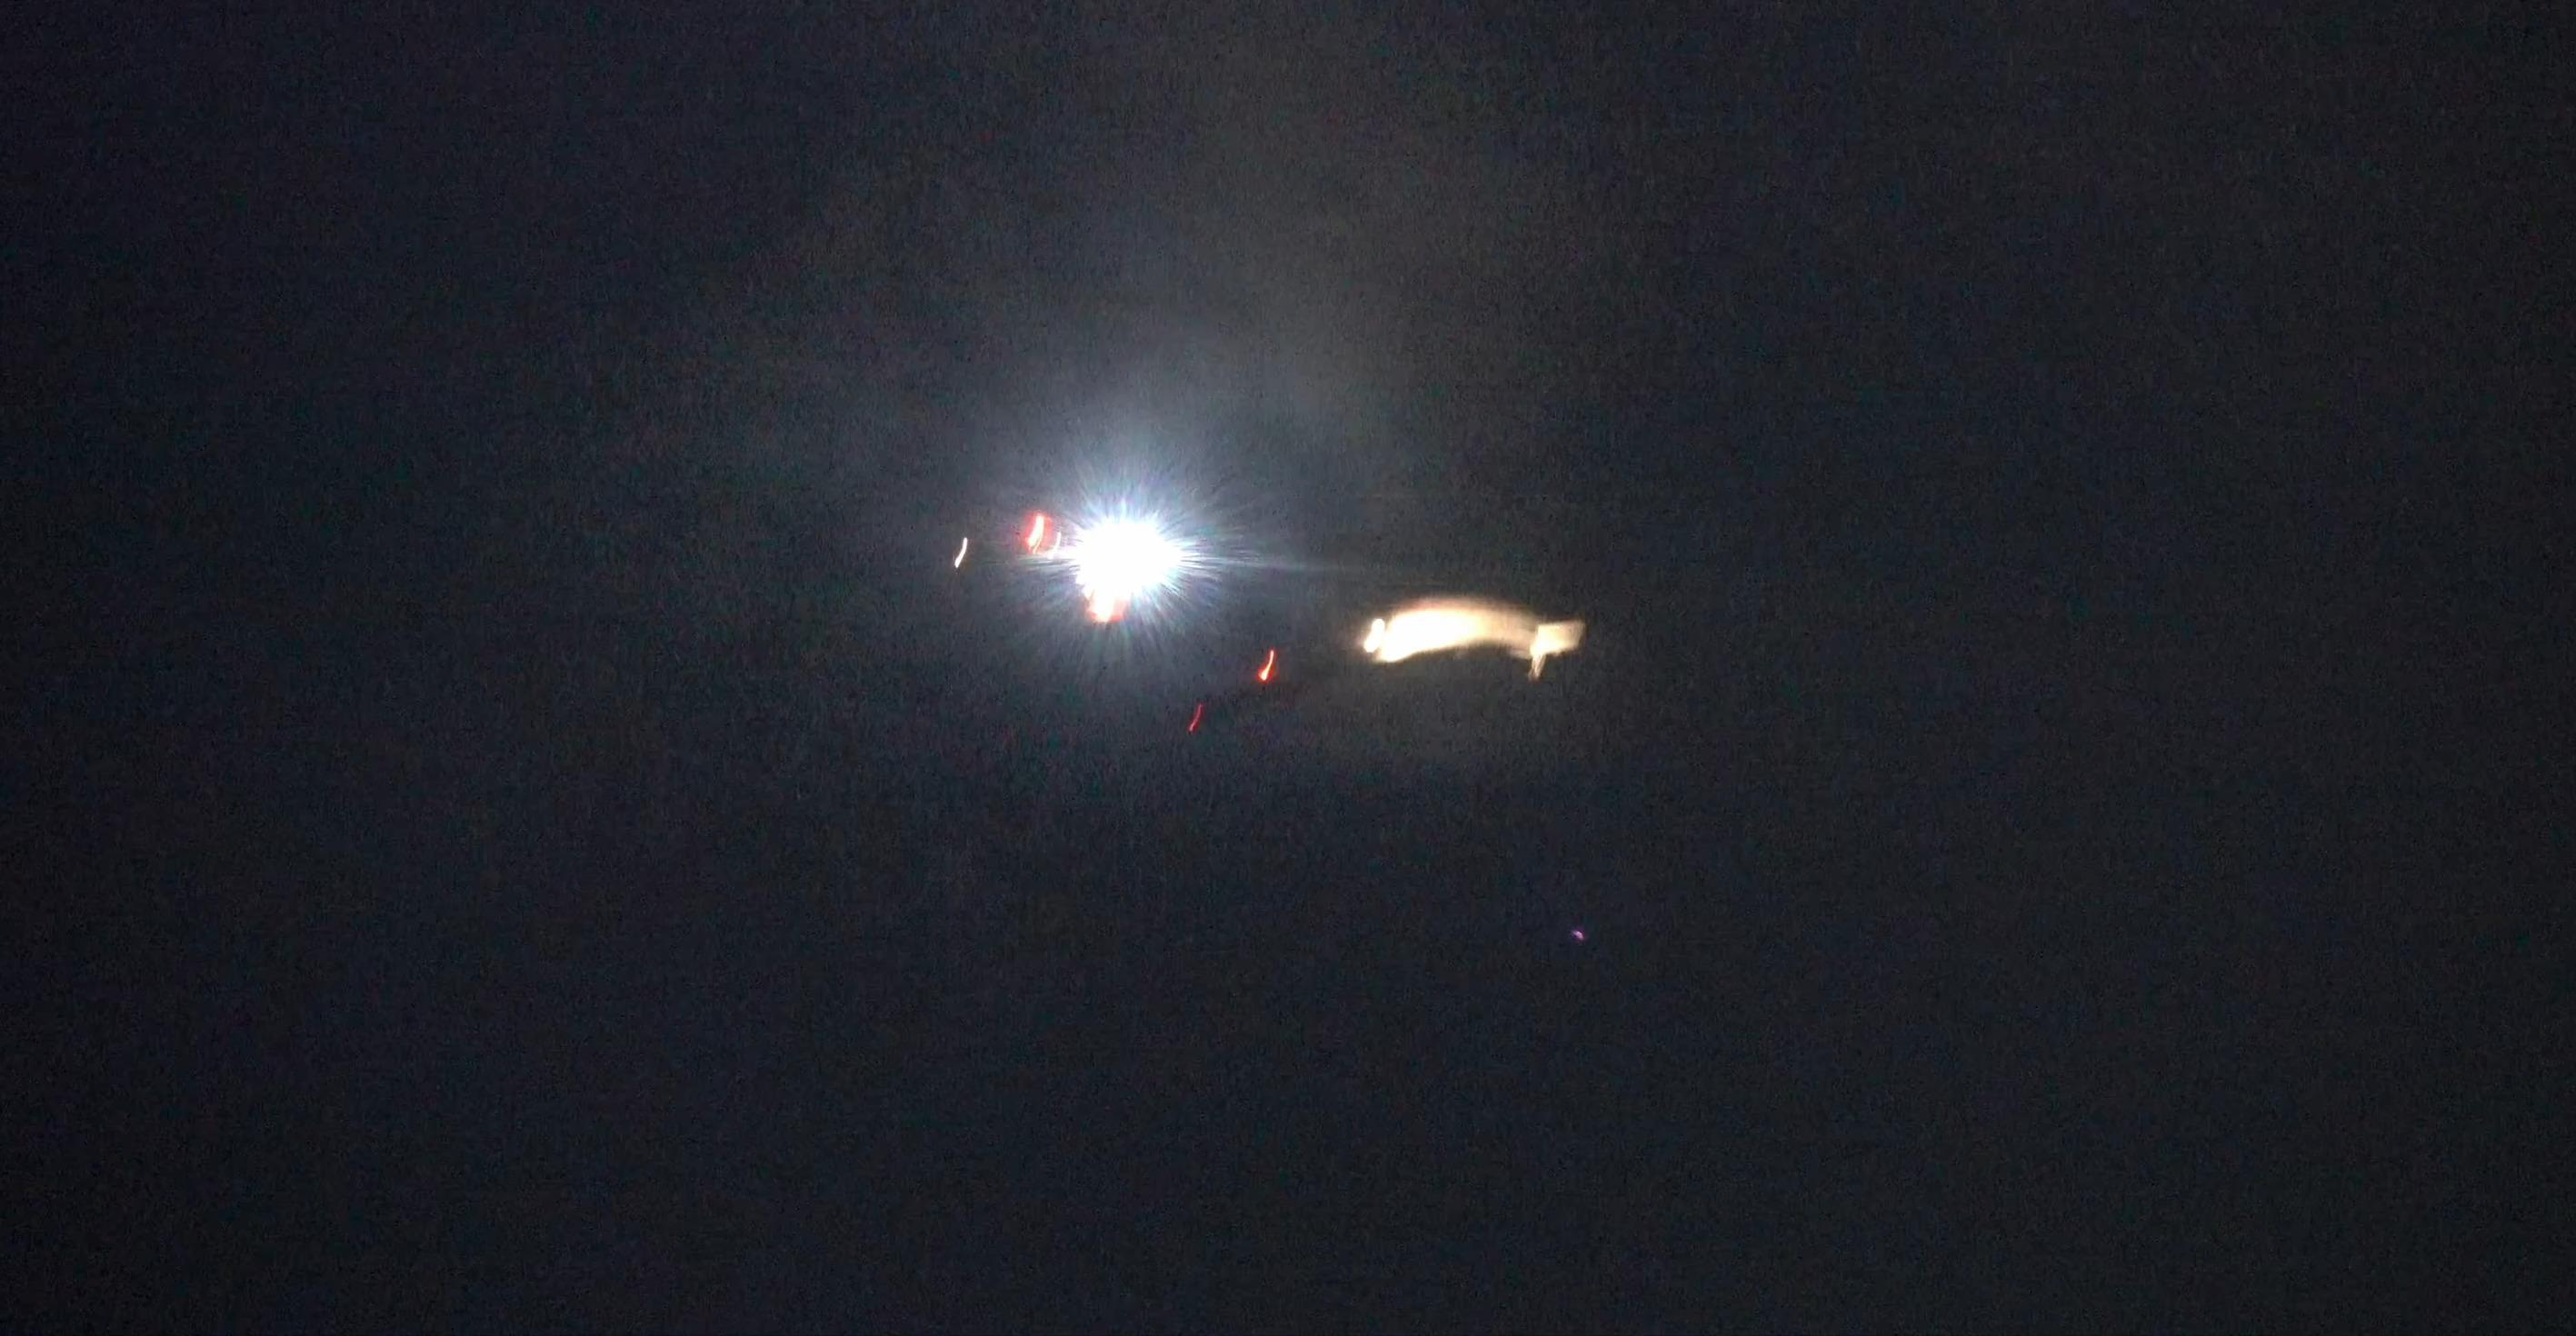Plane: (944, 504, 1666, 753)
